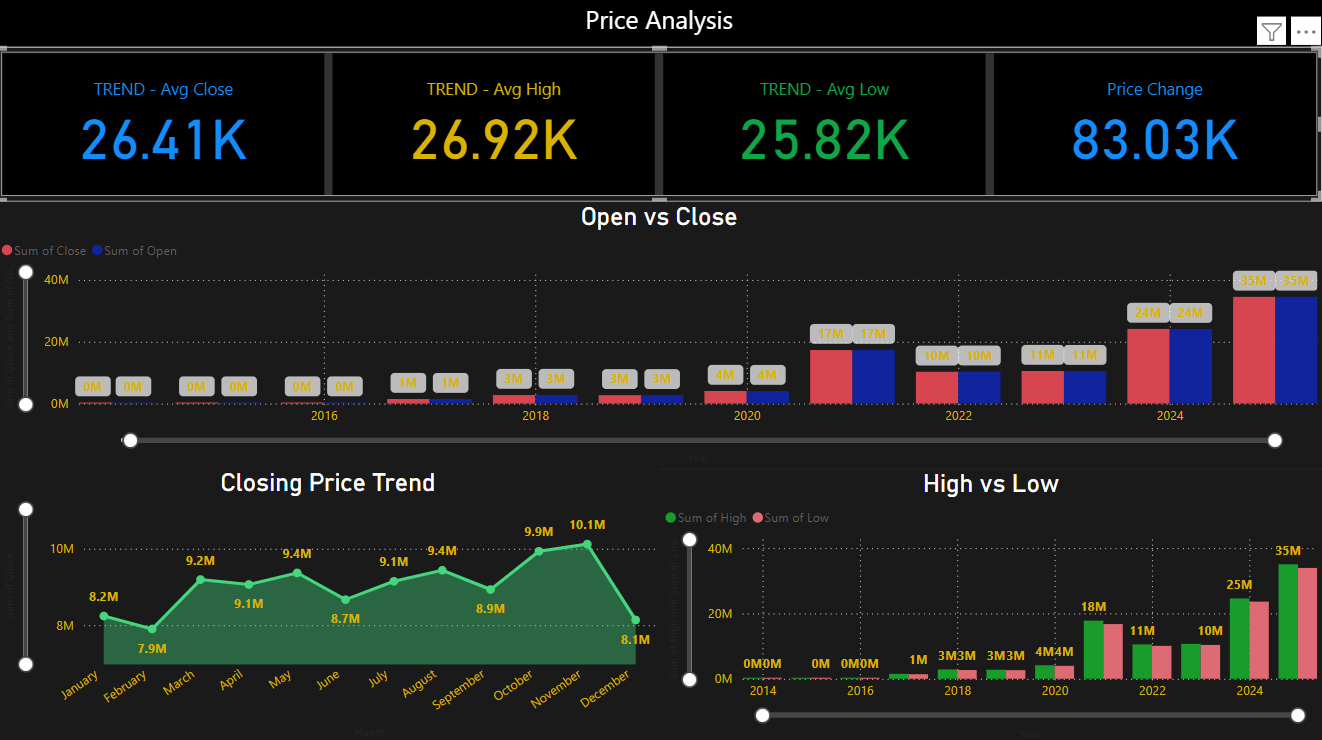

The dashboard page shown, as its layout file describes it:
{"tool":"powerbi","page":{"name":"Price Analysis","canvas":[1280,720],"ordinal":1},"visuals":[{"type":"textbox","box":[0,0,1280.3,46.7],"z":0},{"type":"cardVisual","fields":{"Data":["DAX.TREND - Avg Close","DAX.TREND - Avg High","DAX.TREND - Avg Low","DAX.Price Change"]},"box":[0,47.1,1280,149.6],"z":1000},{"type":"lineChart","title":"Closing Price Trend","fields":{"Category":["Bitcoin.Date.Variation.Date Hierarchy.Month"],"Y":["Sum(Bitcoin.Close)"]},"box":[0,453.6,640.6,266.6],"z":2000},{"type":"lineClusteredColumnComboChart","title":"Open vs Close","fields":{"Category":["Bitcoin.Date.Variation.Date Hierarchy.Year","Bitcoin.Date.Variation.Date Hierarchy.Quarter","Bitcoin.Date.Variation.Date Hierarchy.Month","Bitcoin.Date.Variation.Date Hierarchy.Day"],"Y":["Sum(Bitcoin.Close)","Sum(Bitcoin.Open)"]},"box":[0,196.2,1280.3,258],"z":3000},{"type":"clusteredColumnChart","title":"High vs Low","fields":{"Category":["Bitcoin.Date.Variation.Date Hierarchy.Year","Bitcoin.Date.Variation.Date Hierarchy.Day"],"Y":["Sum(Bitcoin.High)","Sum(Bitcoin.Low)"]},"box":[640.6,454.8,639.4,265.4],"z":4001}]}

Visuals, with their boxes in screenshot pixels (x1, y1, x2, y2), scaled from the page's 1280x720 canvas onto the 1322x740 screenshot:
textbox: 0, 0, 1321, 48
cardVisual - DAX.TREND - Avg Close x DAX.TREND - Avg High: 0, 48, 1321, 202
"Closing Price Trend" lineChart: 0, 466, 662, 739
"Open vs Close" lineClusteredColumnComboChart: 0, 202, 1321, 467
"High vs Low" clusteredColumnChart: 662, 467, 1321, 739
